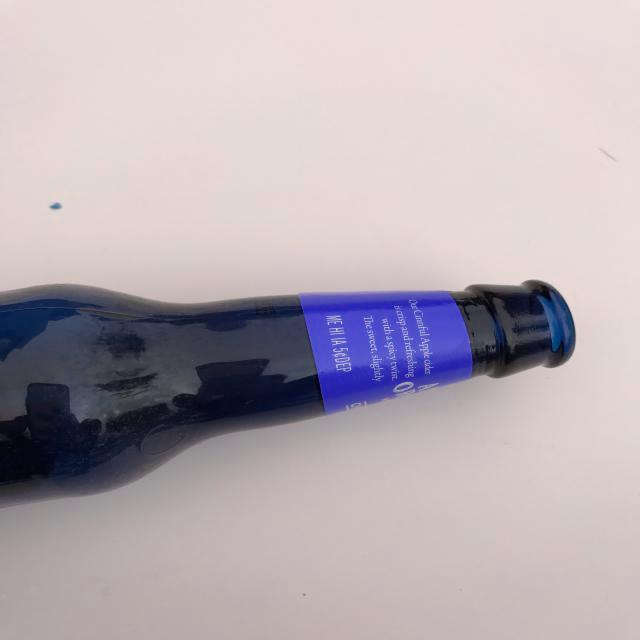glass: (0, 270, 588, 514)
